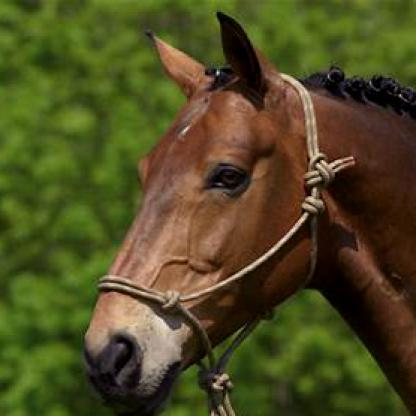horse: (82, 11, 414, 414)
